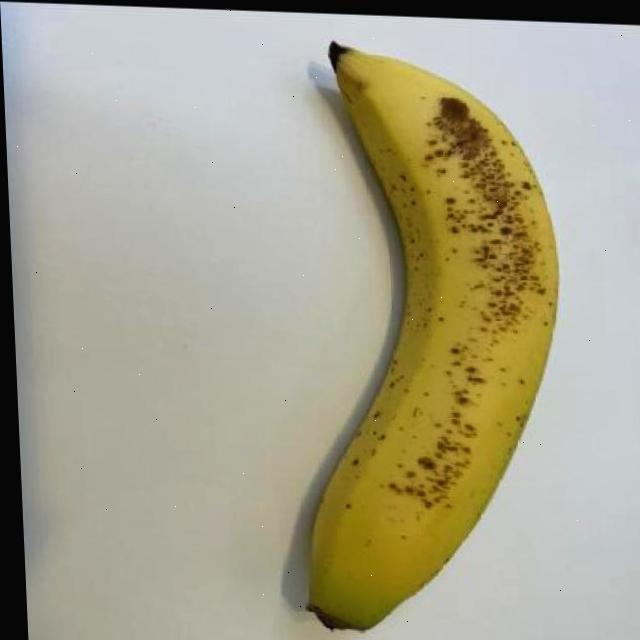banana: (280, 36, 581, 640)
